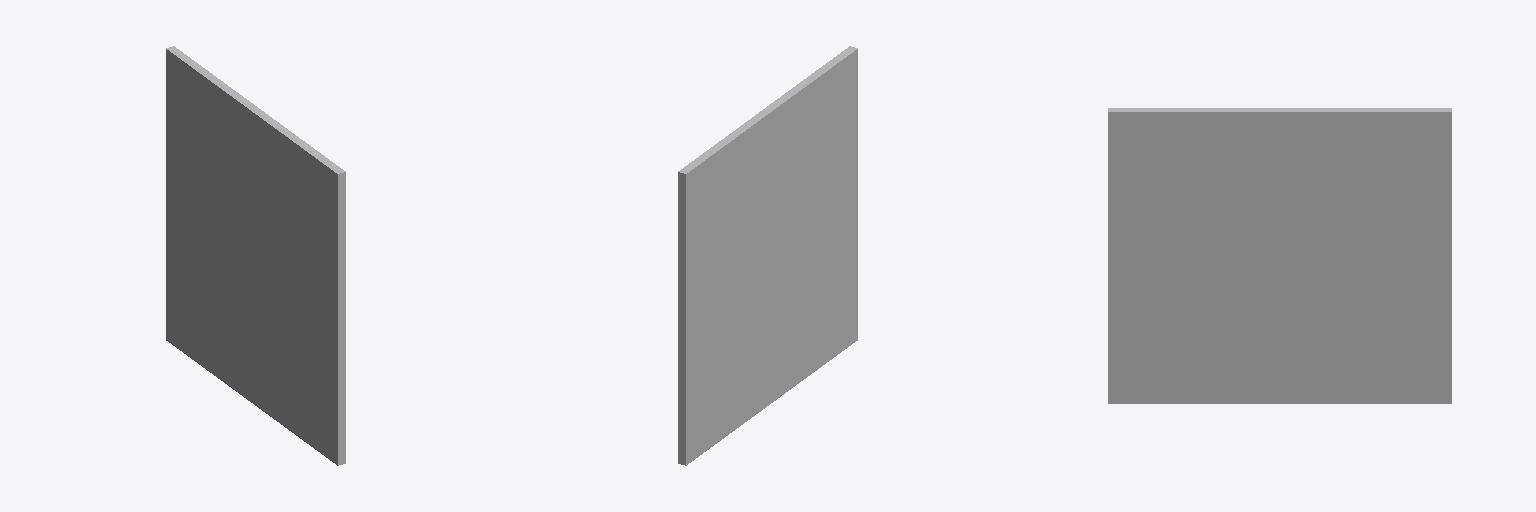
File: wall.obj
3 renders of one model, left to right at view 1: azimuth 30°, elevation 25°; view 2: azimuth 150°, elevation 25°; view 3: azimuth 270°, elevation 25°, orthographic.
Visible parts, largest first — view 1: Cube; view 2: Cube; view 3: Cube.
Boxes of the visible parts, box(x1,y1,x2,y2) form: Cube: box(166, 46, 345, 465); Cube: box(678, 46, 857, 465); Cube: box(1108, 108, 1451, 403).
Size of the model in its own units: 0.1683 by 5.46 by 5.84.